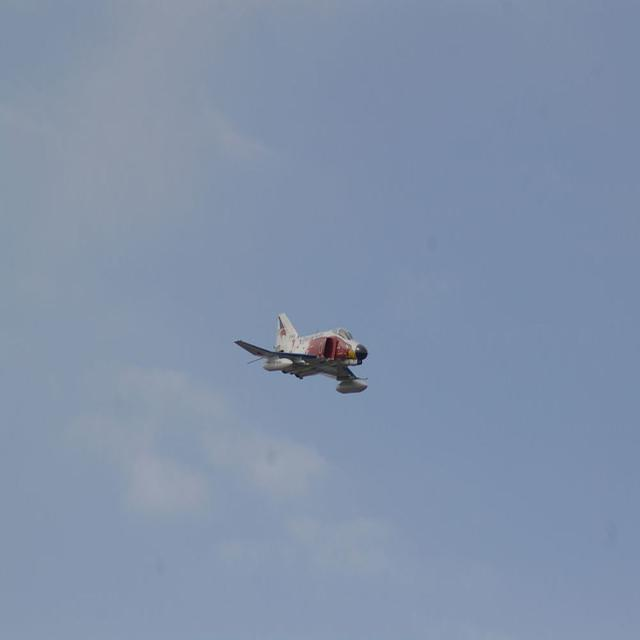MIL_Plane: (233, 312, 370, 394)
